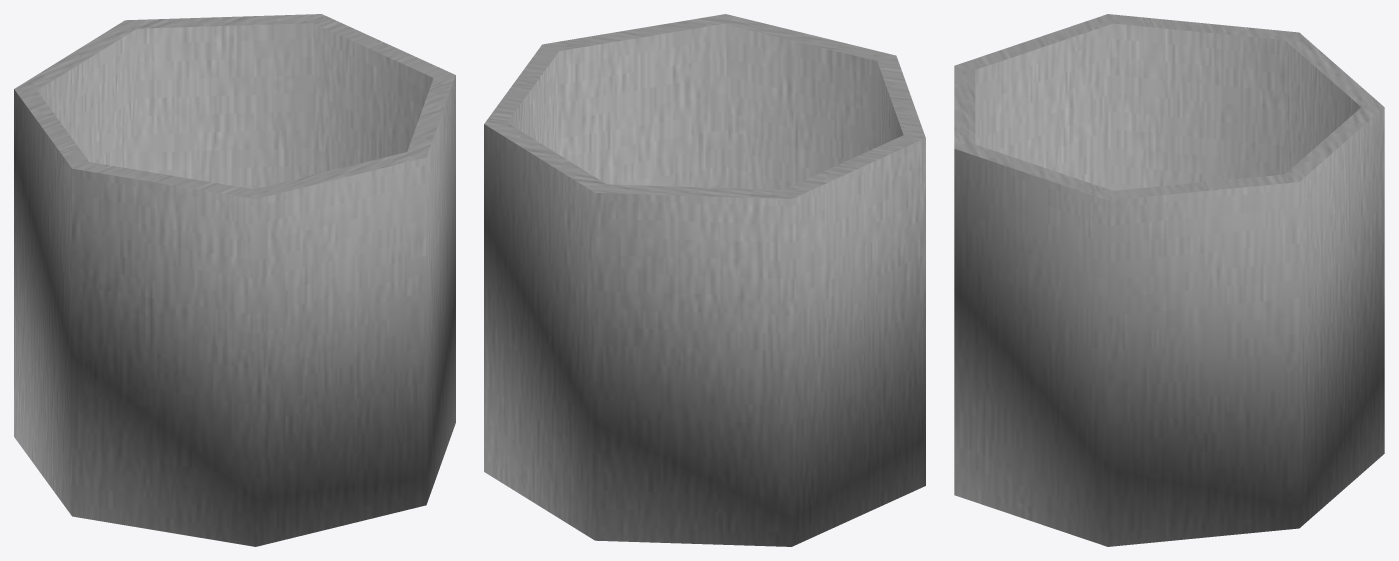
Rendered from bucket.fbx.
The picture shows the model from 3 angles, left to right: view 1: azimuth 30°, elevation 25°; view 2: azimuth 150°, elevation 25°; view 3: azimuth 270°, elevation 25°; orthographic projection.
Parts seen in each view (by area): view 1: SketchUp.001; view 2: SketchUp.001; view 3: SketchUp.001.
Part boxes in pixels (box(x1,y1,x2,y2)): SketchUp.001: box(14, 14, 455, 546); SketchUp.001: box(484, 14, 925, 546); SketchUp.001: box(954, 14, 1384, 546).
Size of the model in its own units: 38.09 by 33 by 37.13.
Materials: 1 (1 with a texture image).
